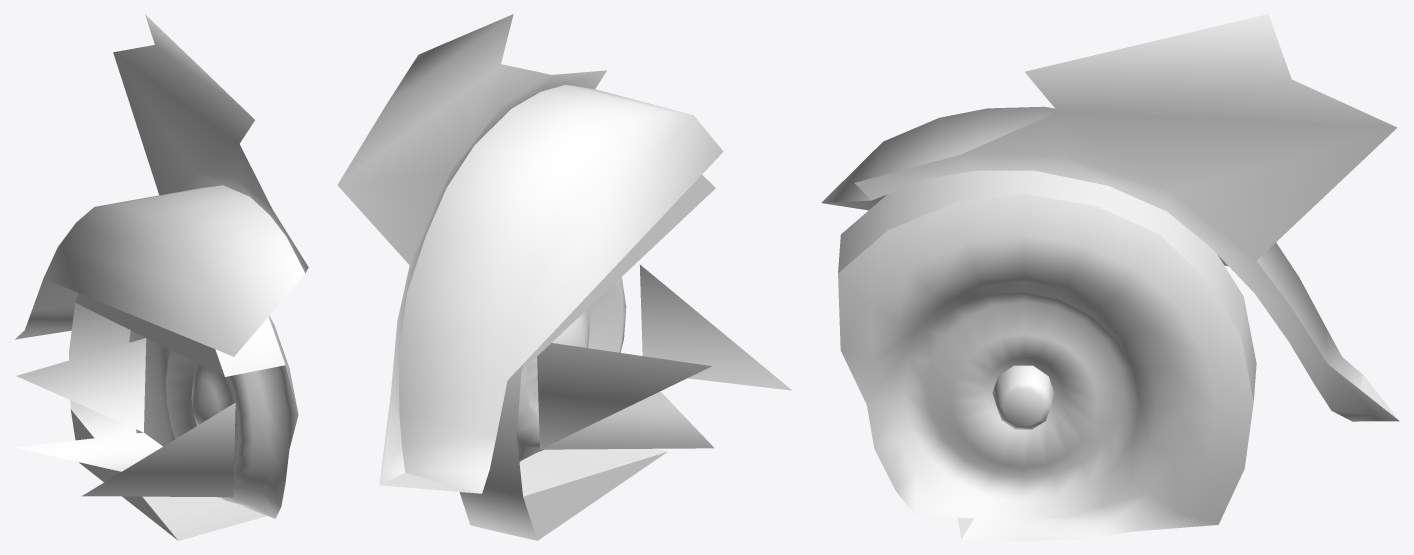
The picture shows the model from 3 angles, left to right: view 1: azimuth 30°, elevation 25°; view 2: azimuth 150°, elevation 25°; view 3: azimuth 270°, elevation 25°; orthographic projection. The views are drawn at different scales.
Bounding box in the file's own units: 0.4202 × 0.7845 × 0.7818.
1 material, 1 textured.
